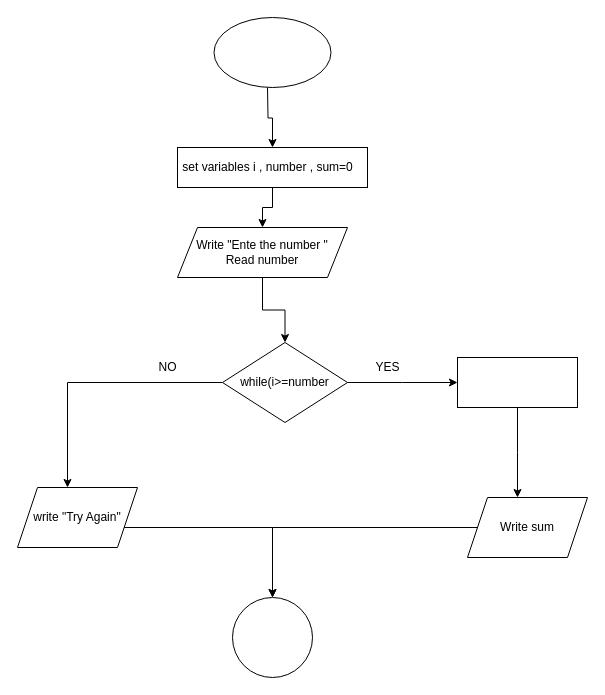
The diagram is 605 pixels wide and 695 high, and some of its shapes have lost their labels. Each missing label, with the box of its shape:
End: (232, 596, 312, 678)
Start: (213, 16, 331, 88)
sum = sum + ( i * I ): (456, 356, 578, 408)
